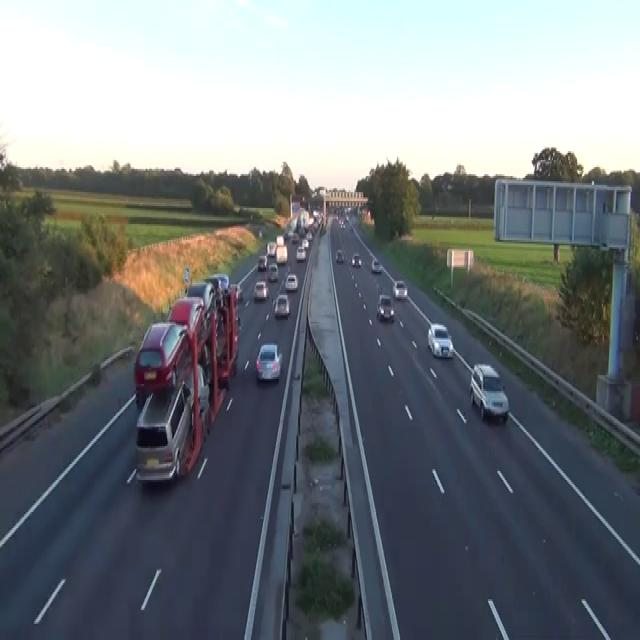Car: (135, 378, 193, 484), (134, 320, 189, 405), (469, 363, 509, 423), (167, 295, 204, 347), (183, 363, 209, 414), (255, 343, 282, 381), (185, 281, 214, 316), (427, 322, 453, 357), (376, 293, 394, 322), (273, 294, 289, 318), (253, 279, 268, 301), (213, 274, 229, 293), (392, 279, 407, 299), (285, 272, 298, 292), (41, 260, 53, 278), (91, 361, 101, 382), (268, 263, 278, 281), (257, 254, 267, 270), (371, 258, 382, 272), (235, 282, 243, 300), (351, 252, 361, 266), (266, 242, 276, 256), (335, 249, 344, 263), (296, 246, 305, 260), (236, 311, 241, 331), (275, 235, 284, 245), (291, 231, 299, 242), (301, 238, 308, 249), (320, 224, 326, 235), (305, 231, 312, 240), (340, 218, 346, 228), (258, 228, 262, 238), (349, 222, 353, 231), (345, 214, 349, 222)
Truck: (133, 274, 240, 485)
